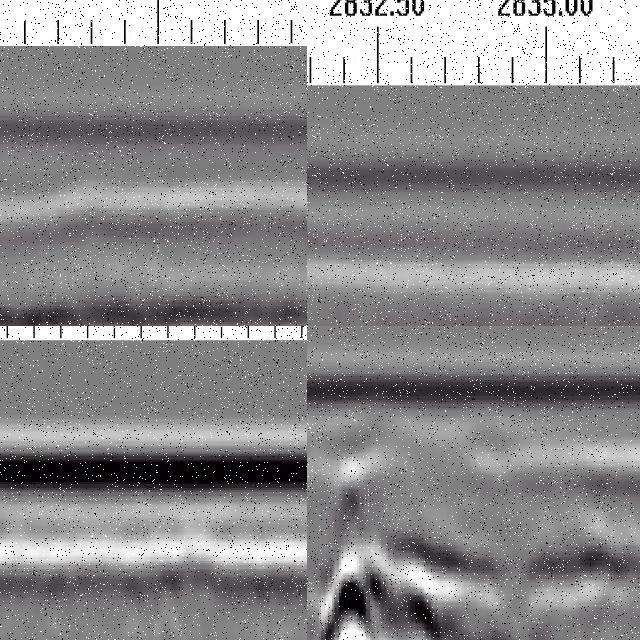loose: (308, 482, 628, 640)
